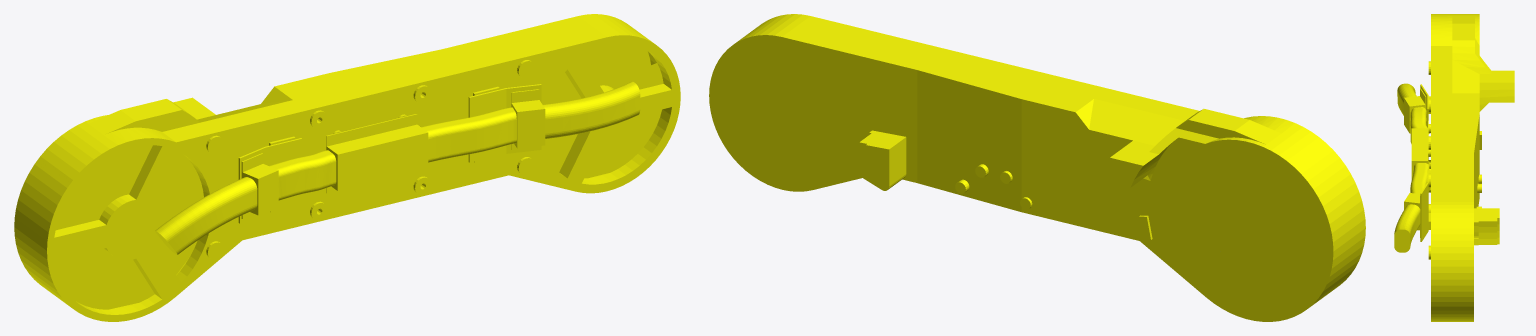
The picture shows the model from 3 angles, left to right: view 1: azimuth 30°, elevation 25°; view 2: azimuth 150°, elevation 25°; view 3: azimuth 270°, elevation 25°; orthographic projection. The views are drawn at different scales.
Visible parts, largest first — view 1: node; view 2: node; view 3: node.
Boxes of the visible parts, bbox=[...] form: node: bbox=[14, 14, 680, 321]; node: bbox=[709, 14, 1365, 321]; node: bbox=[1394, 14, 1514, 321].
Bounding box in the file's own units: 1162 × 322 × 273.
